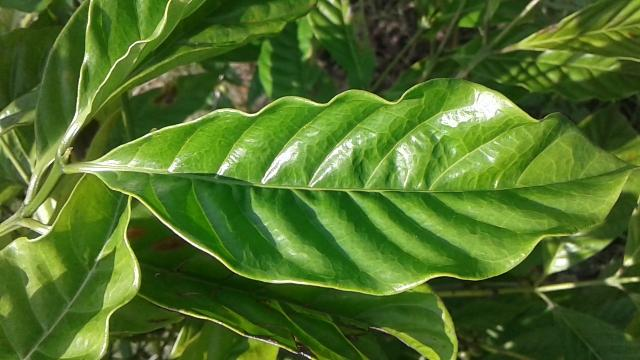healthy: (86, 77, 640, 293)
